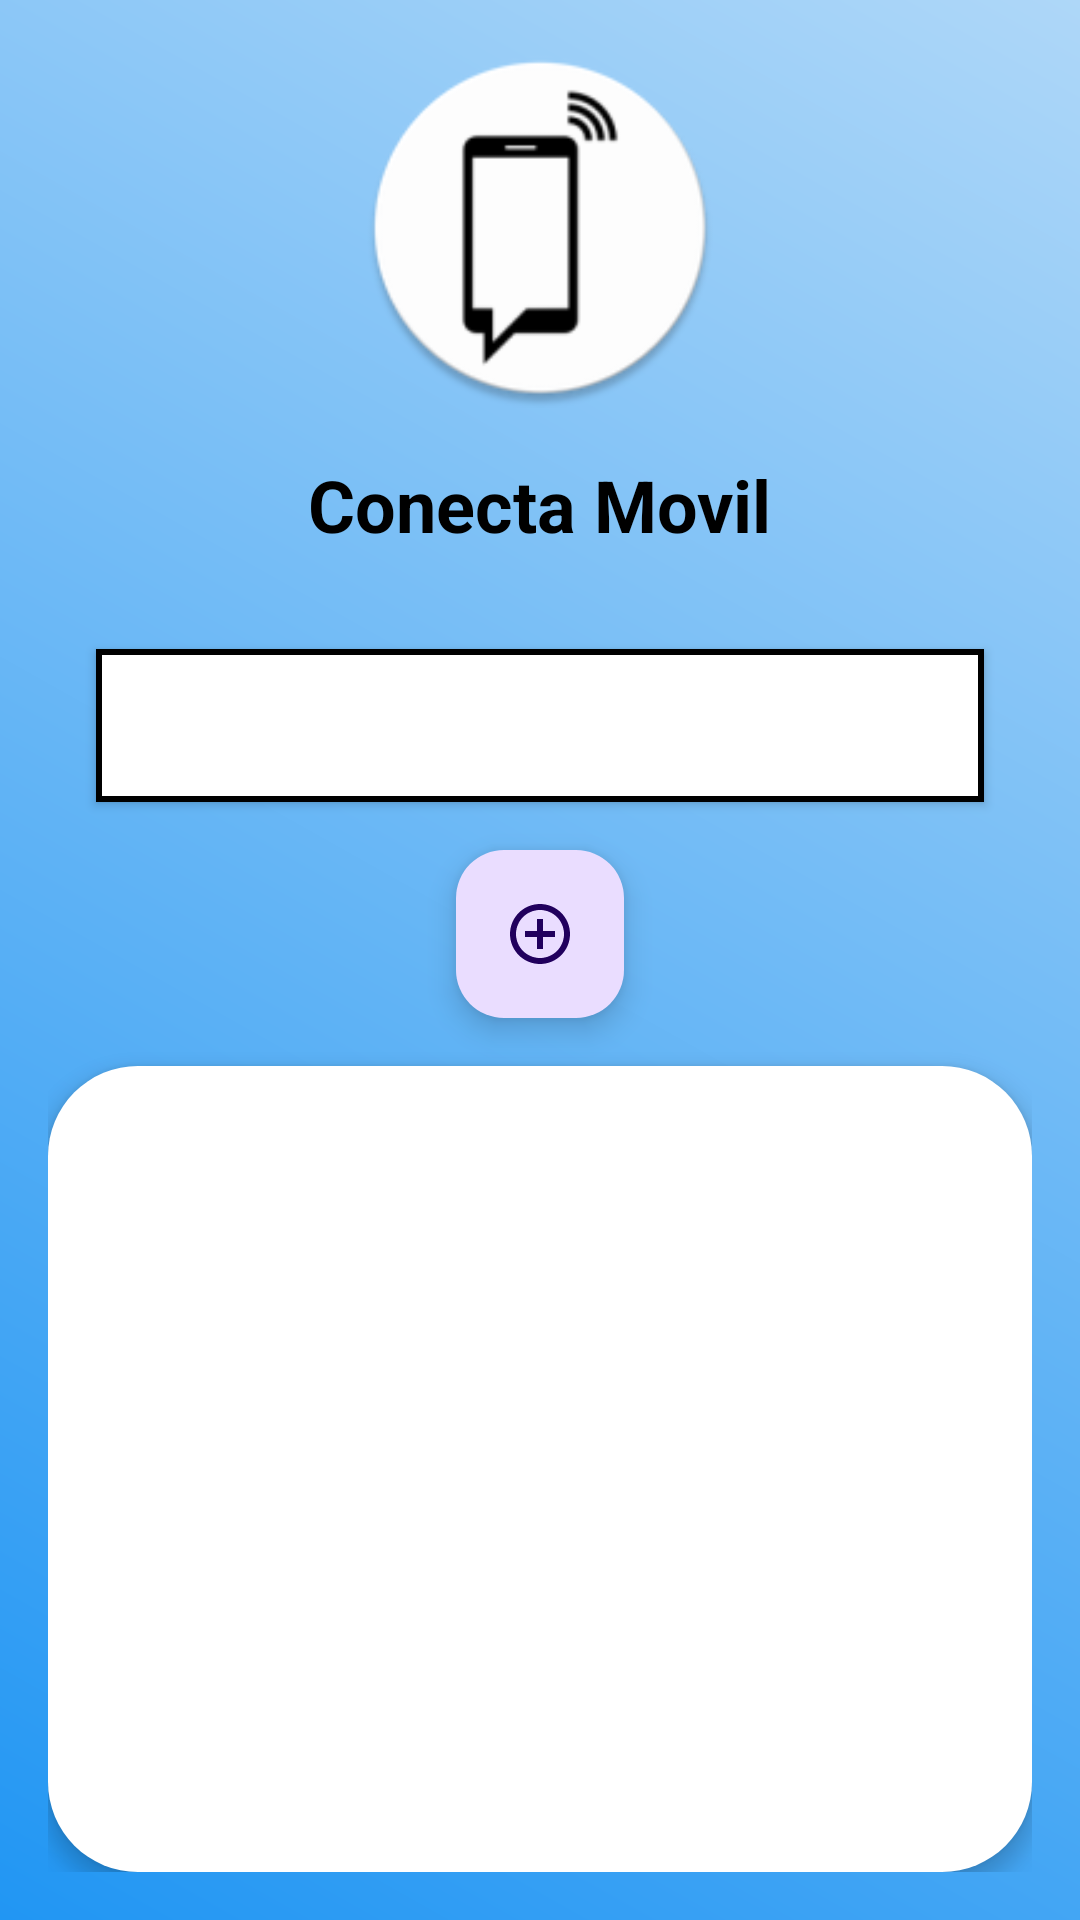

Screen size 1080w x 1920h. Icon name, then its center in pixels as point (x, y):
add circle: point (540, 934)
